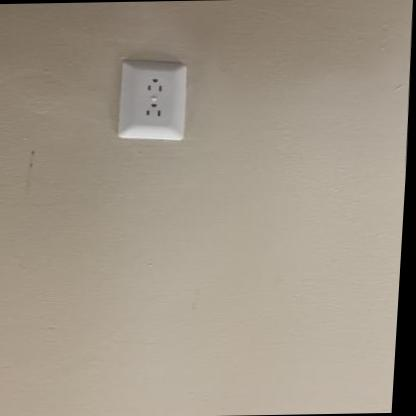OUTLET: (114, 57, 190, 143)
